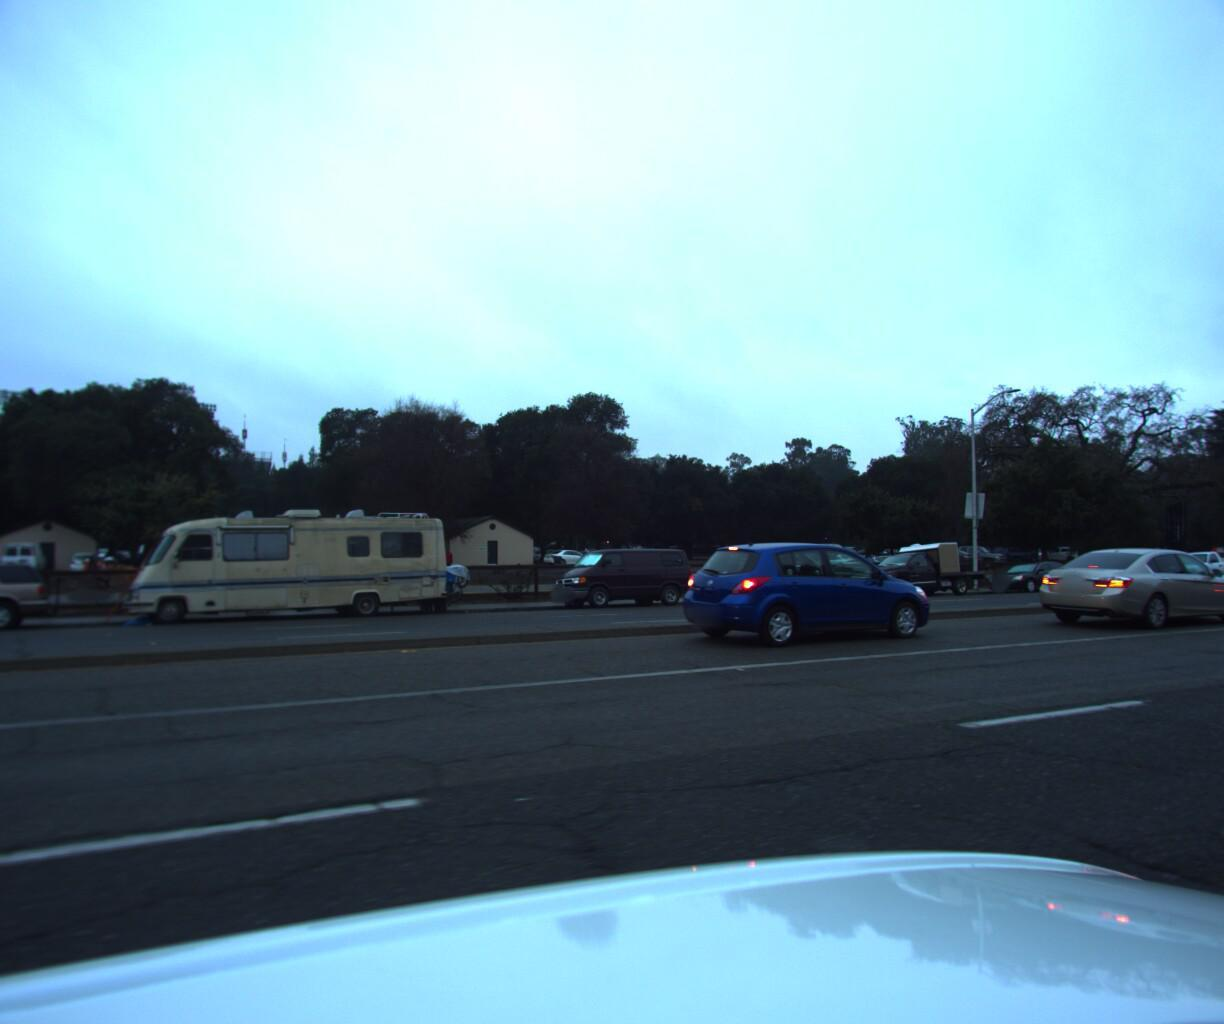car: (674, 538, 942, 646), (1017, 536, 1224, 631), (538, 541, 700, 609), (839, 534, 987, 597), (0, 555, 87, 642), (976, 553, 1081, 592), (1146, 543, 1224, 585)
other_vehicle: (105, 495, 482, 631)
